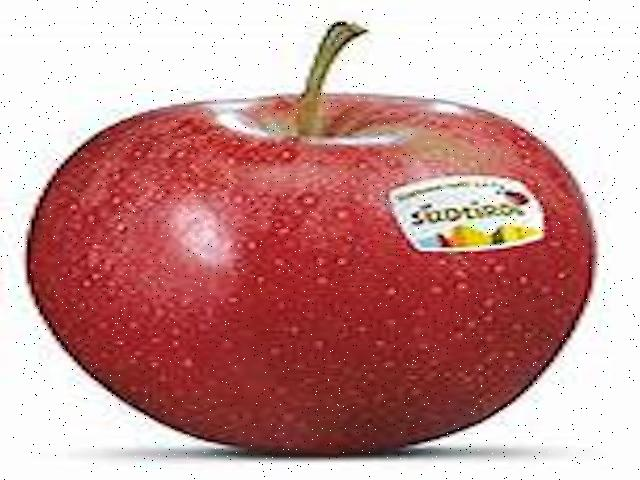apple: (16, 16, 606, 460)
